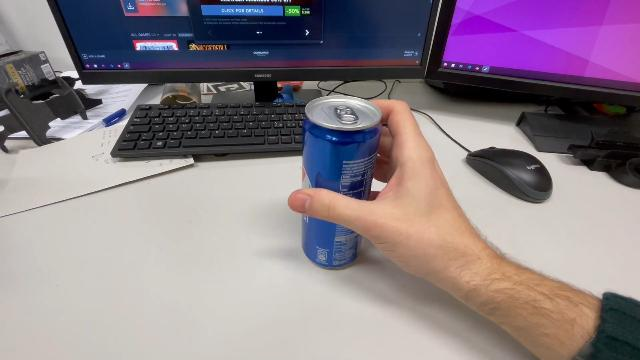Pepsi: (300, 92, 384, 272)
